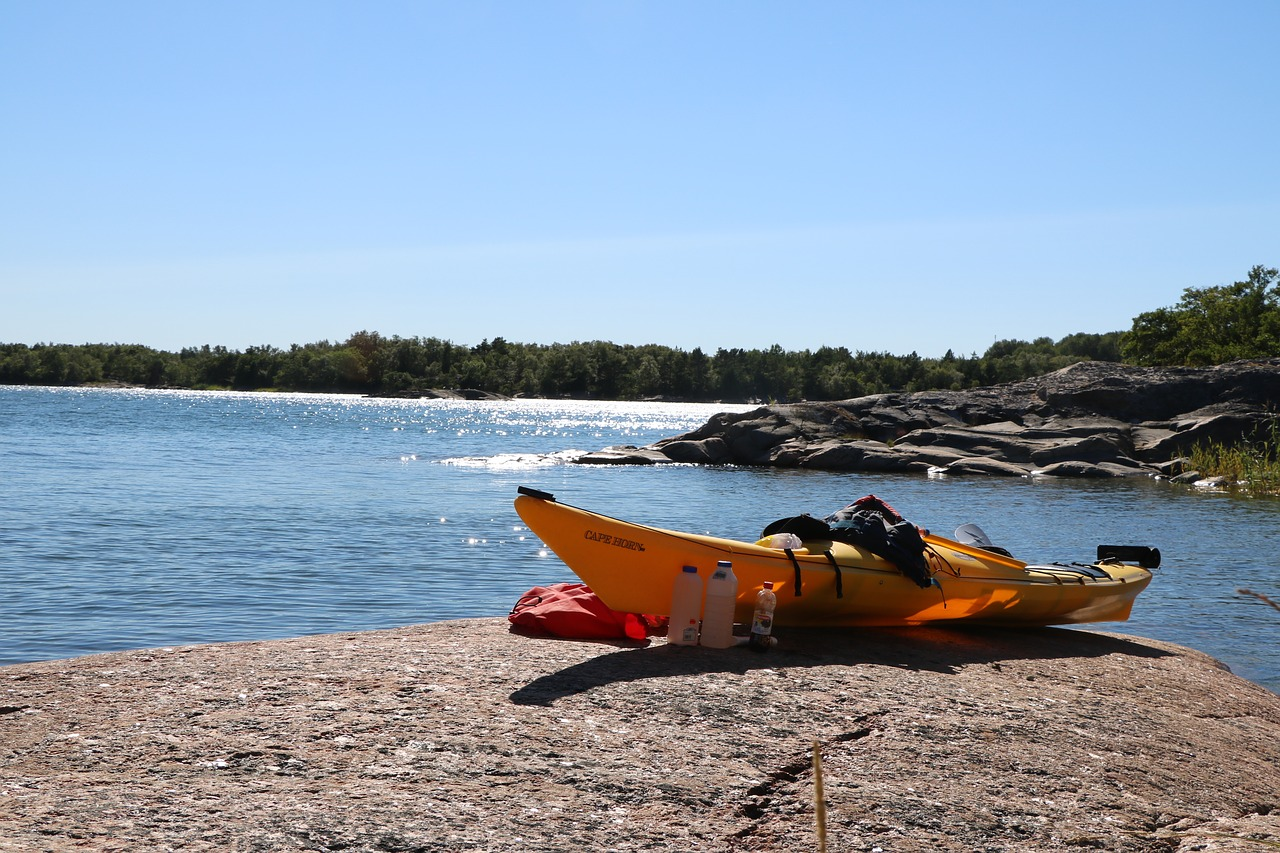kayak: (512, 481, 1162, 640)
